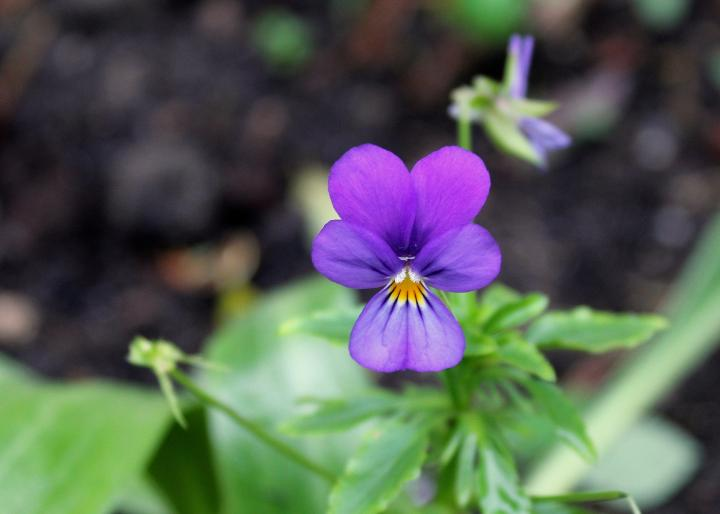violet: (299, 132, 507, 386)
